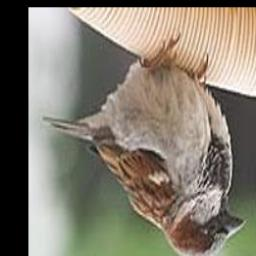Sparrow: (43, 35, 246, 256)
